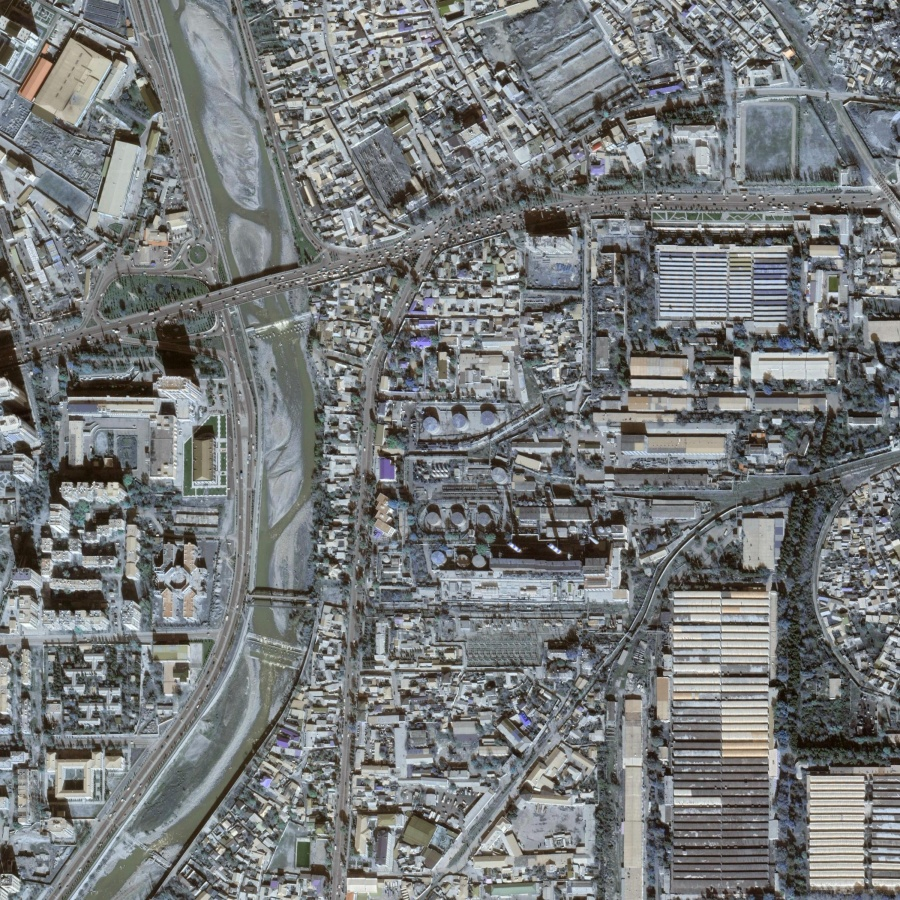PowerPlant: (413, 457, 634, 668)
